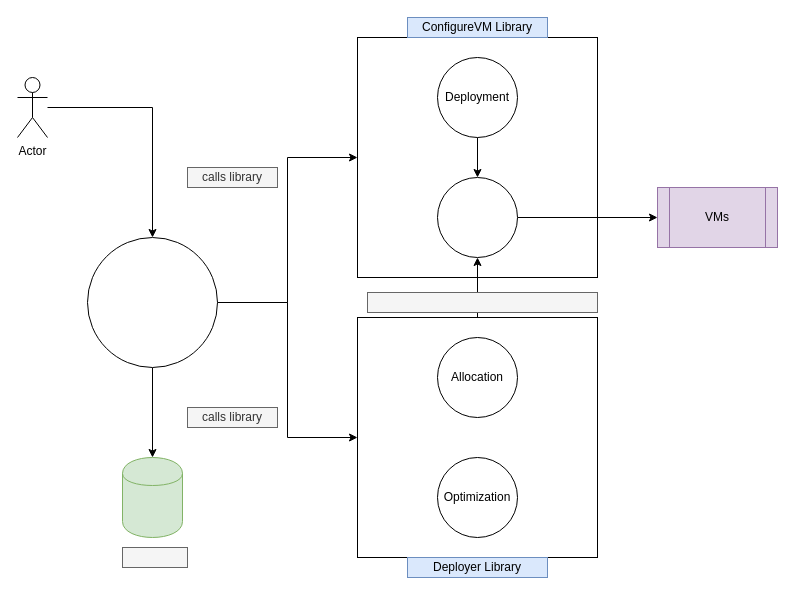
Some shapes in this 795 by 595 pixel diagram are drawn without their labels. The centre of each missing label's shape, as x and y in pixels:
calls VM Connect to fetch data to work on: pixel 482 302
Database: pixel 155 557
Main Project: pixel 152 302
VM Connect: pixel 477 217
